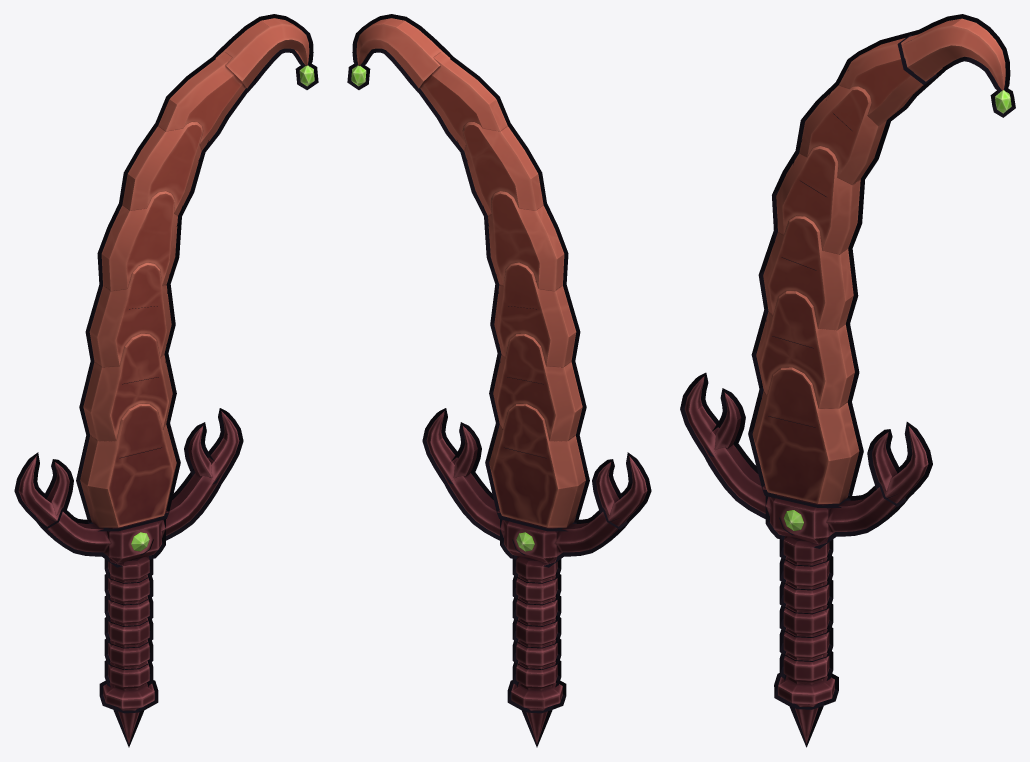
Rendered from ScorpionSword.fbx.
3 renders of one model, left to right at view 1: azimuth 30°, elevation 25°; view 2: azimuth 150°, elevation 25°; view 3: azimuth 330°, elevation 25°, orthographic. The views are drawn at different scales.
Parts seen in each view (by area): view 1: ScorpionSword, ScorpionSwordOutline, ScorpionSwordVenom; view 2: ScorpionSword, ScorpionSwordOutline, ScorpionSwordVenom; view 3: ScorpionSword, ScorpionSwordOutline, ScorpionSwordVenom.
Boxes of the visible parts, left/top/right/bottom form: ScorpionSword: left=18, top=18, right=309, bottom=743; ScorpionSwordOutline: left=14, top=14, right=318, bottom=747; ScorpionSwordVenom: left=131, top=65, right=314, bottom=551; ScorpionSword: left=356, top=18, right=647, bottom=743; ScorpionSwordOutline: left=347, top=14, right=651, bottom=747; ScorpionSwordVenom: left=351, top=65, right=534, bottom=551; ScorpionSword: left=684, top=18, right=1005, bottom=743; ScorpionSwordOutline: left=680, top=14, right=1015, bottom=747; ScorpionSwordVenom: left=784, top=90, right=1011, bottom=530.
Bounding box in the file's own units: 182 × 402 × 34.4.
Materials: 2 (1 with a texture image).
